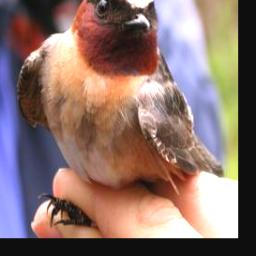Swallow: (19, 0, 224, 228)
